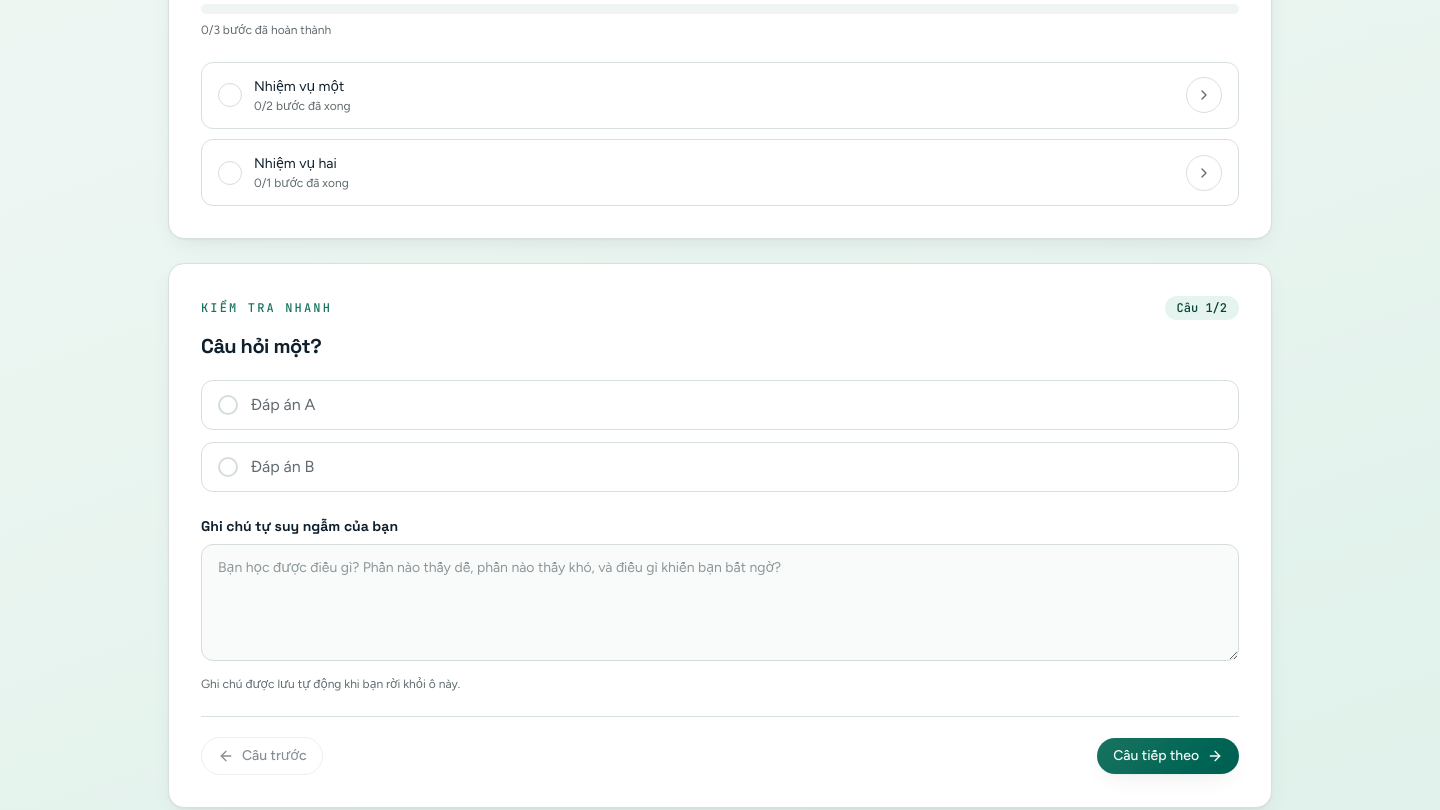
Test: CareerTrialPage › selects a radio option and keeps it when navigating away and back
(page scrolled)
Expected: the heading "Câu hỏi một?" is shown, [201, 333, 321, 359]
Click the radio button labelled "Đáp án A" at [283, 405], box [201, 380, 1239, 430]
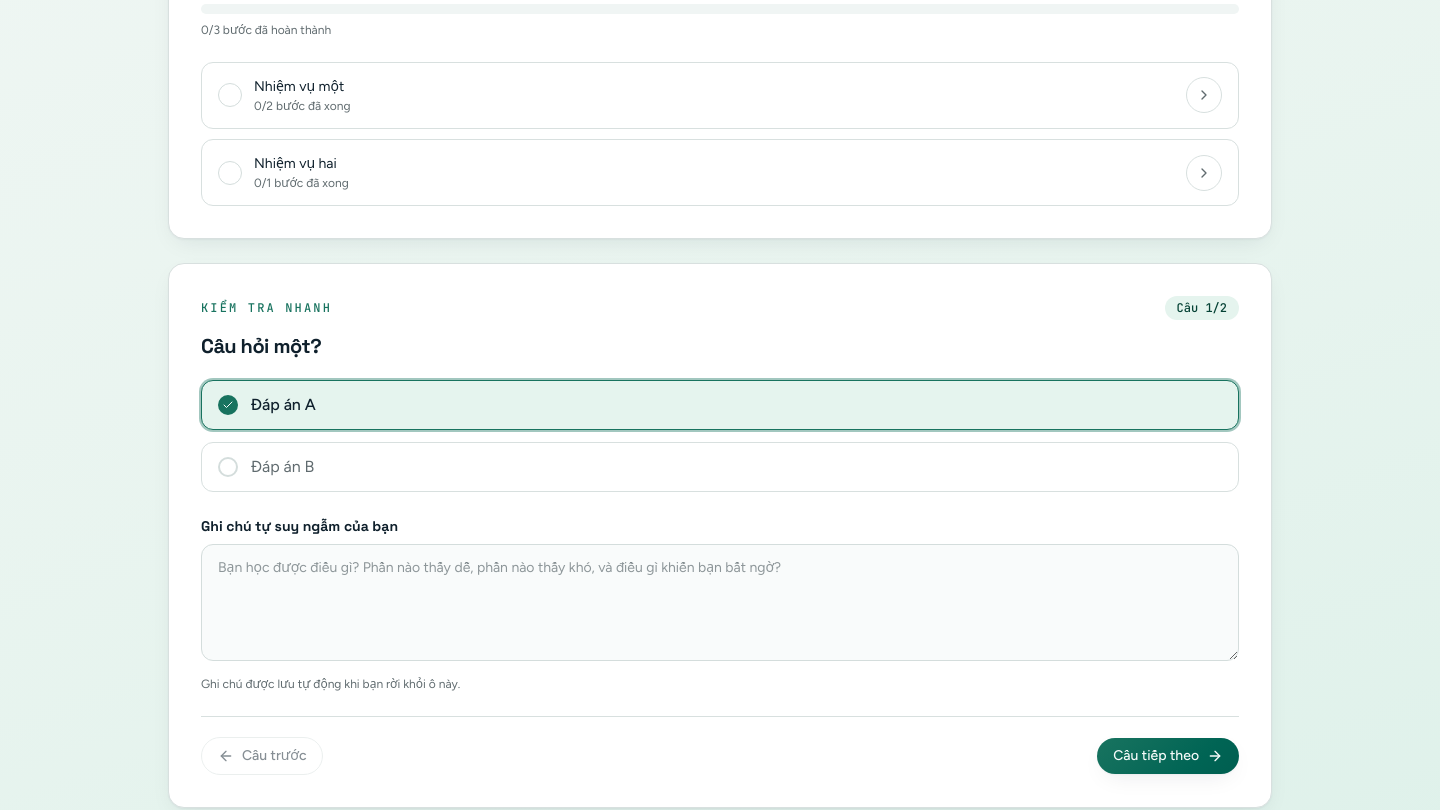
Click the button "Câu tiếp theo" at [1168, 756], box [1097, 738, 1239, 774]
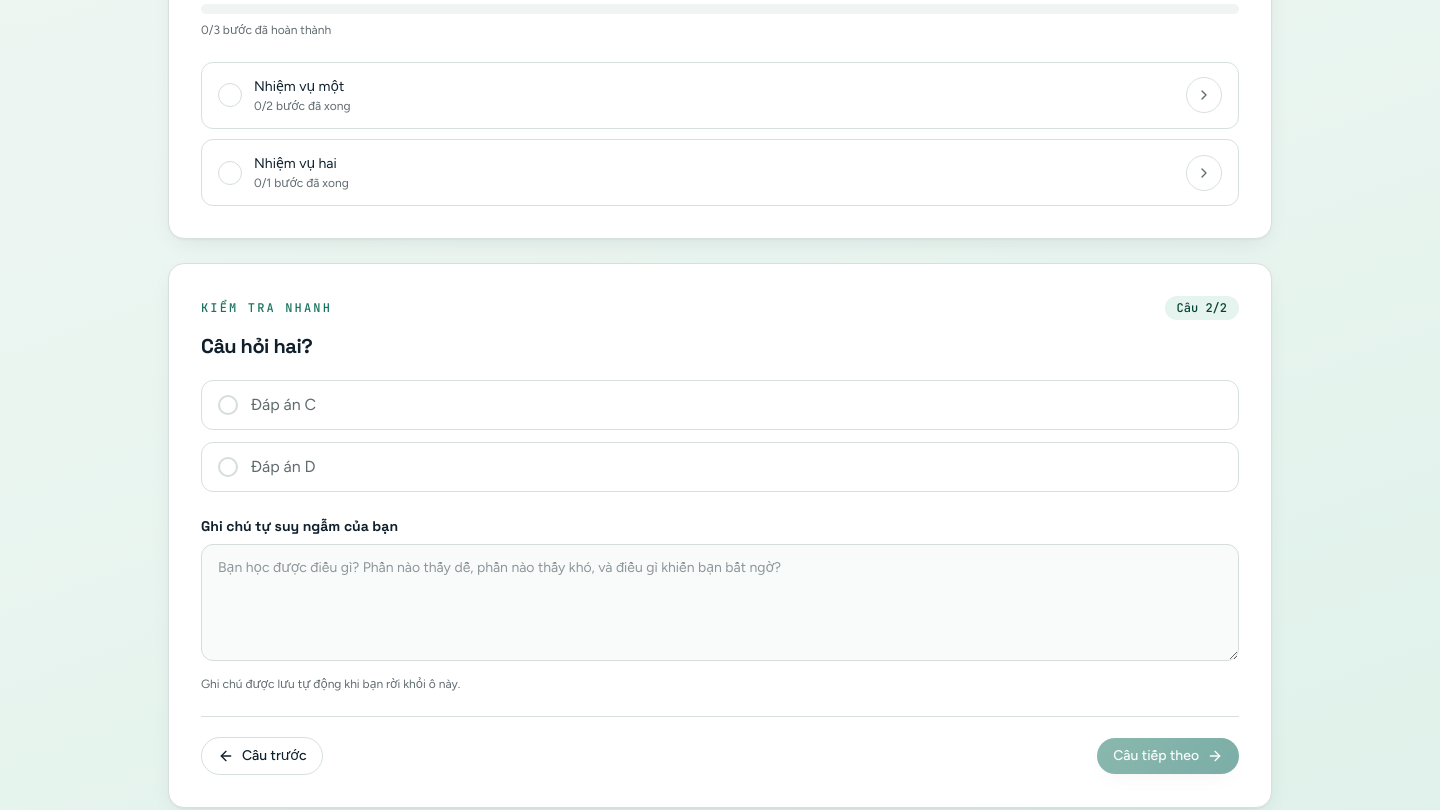
Result: the heading "Câu hỏi hai?" is shown at [201, 333, 312, 359]
Click the button "Câu trước" at [262, 756], box [201, 737, 324, 775]
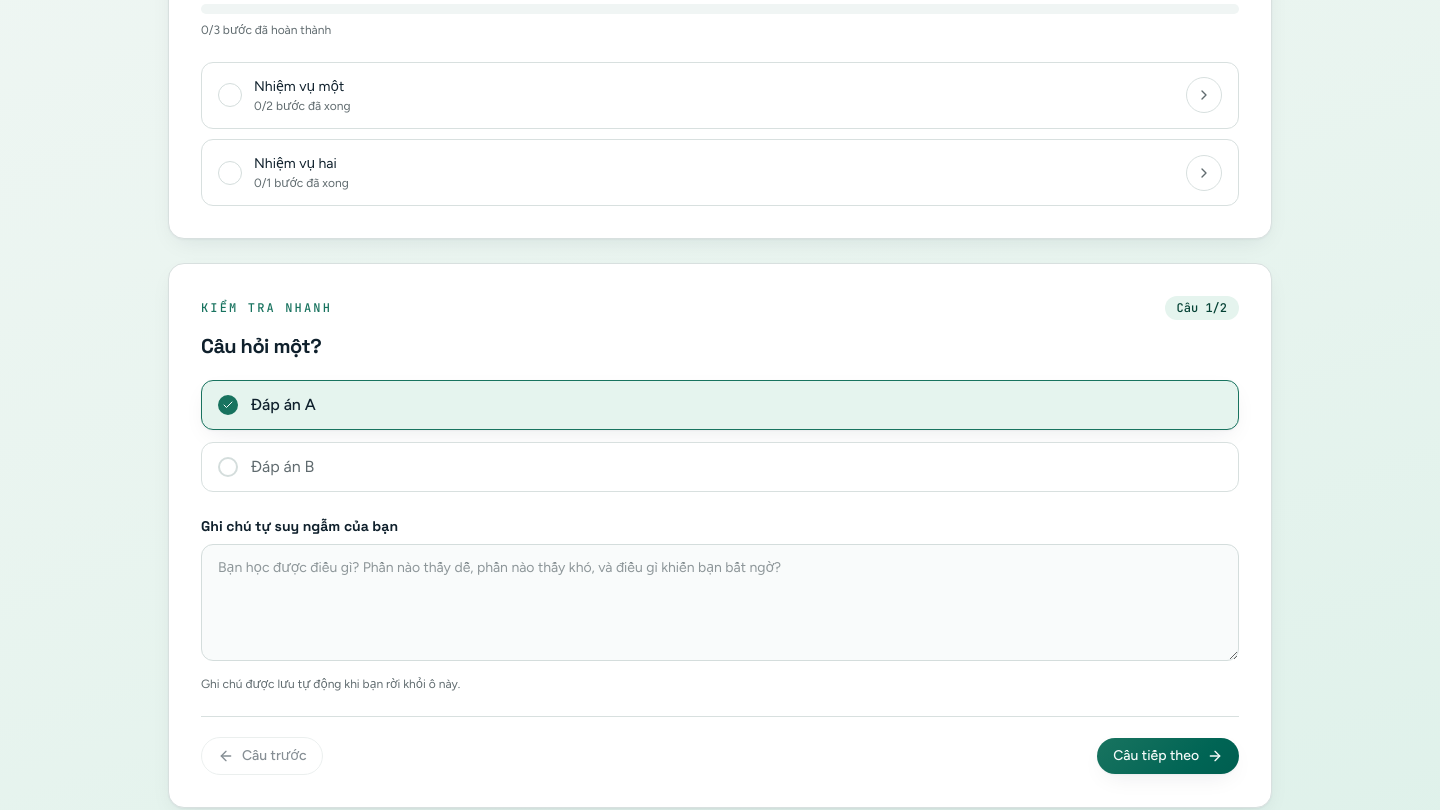
Result: the heading "Câu hỏi một?" is shown at [201, 333, 321, 359]
Result: the radio button labelled "Đáp án A" is checked at [201, 380, 1239, 430]
Result: the radio button labelled "Đáp án B" is not checked at [201, 442, 1239, 492]
